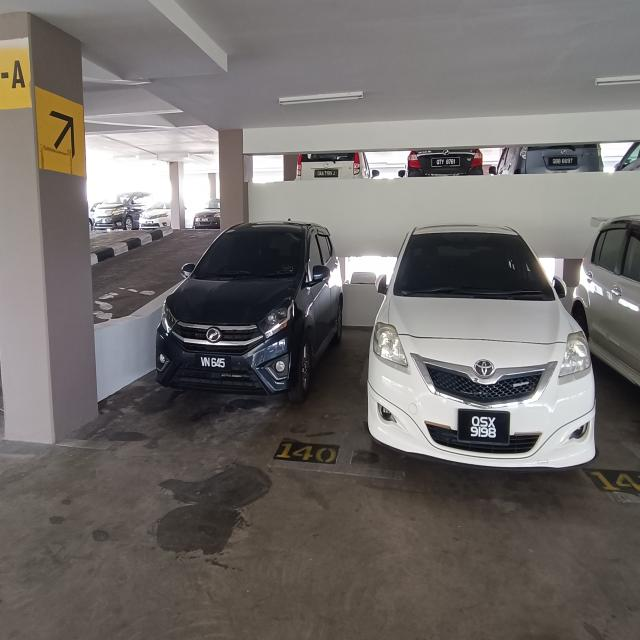PeroduaAxia: (165, 175, 331, 398)
ToyotaVios: (374, 232, 616, 468)
